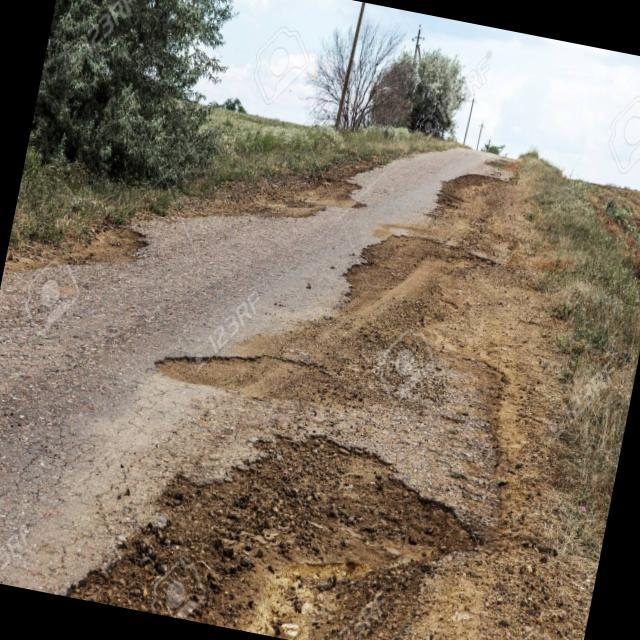Pothole: (64, 387, 501, 640), (139, 321, 381, 428)
